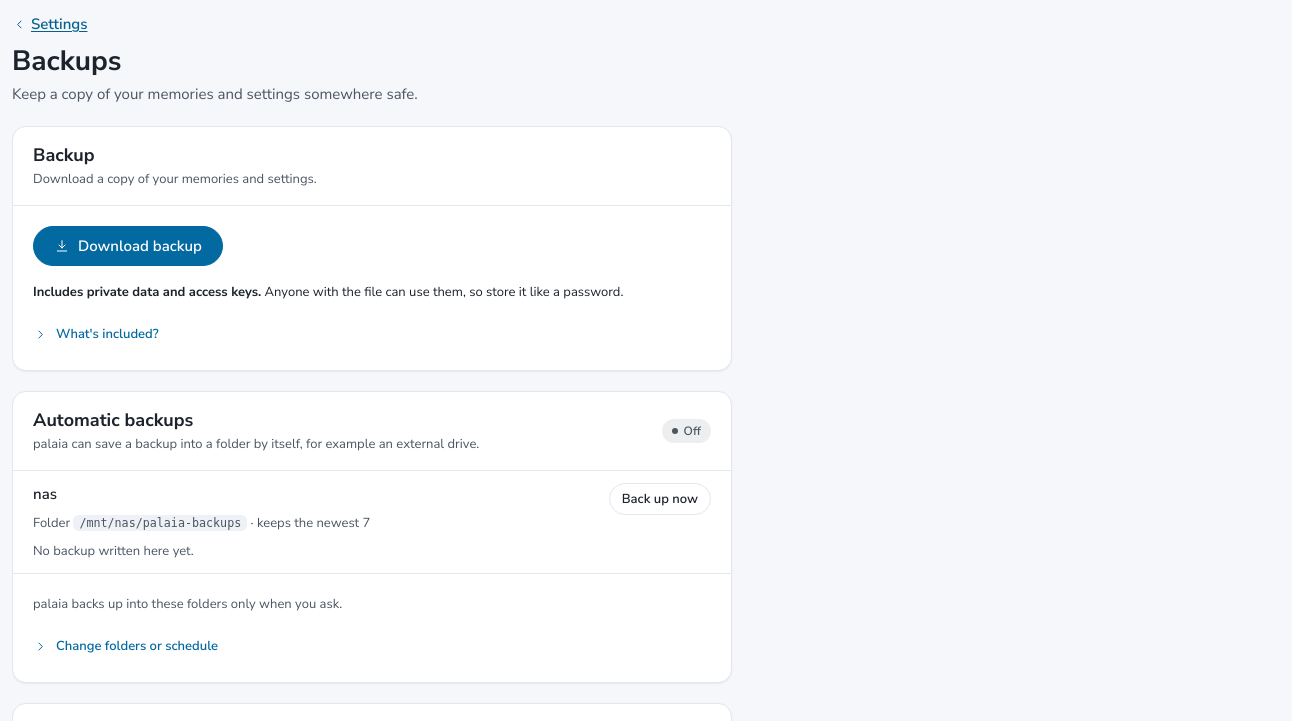
Backups (issue 438) › runs one folder now, says so, and shows the fresh outcome
The image size is (1292, 721).
Expected: the list item with test id "backup-target-nas" shows "no backup written here yet", [33,542,194,560]
Click the button with aria-label "back up now into nas" at point(660, 499), box [609,483,711,515]
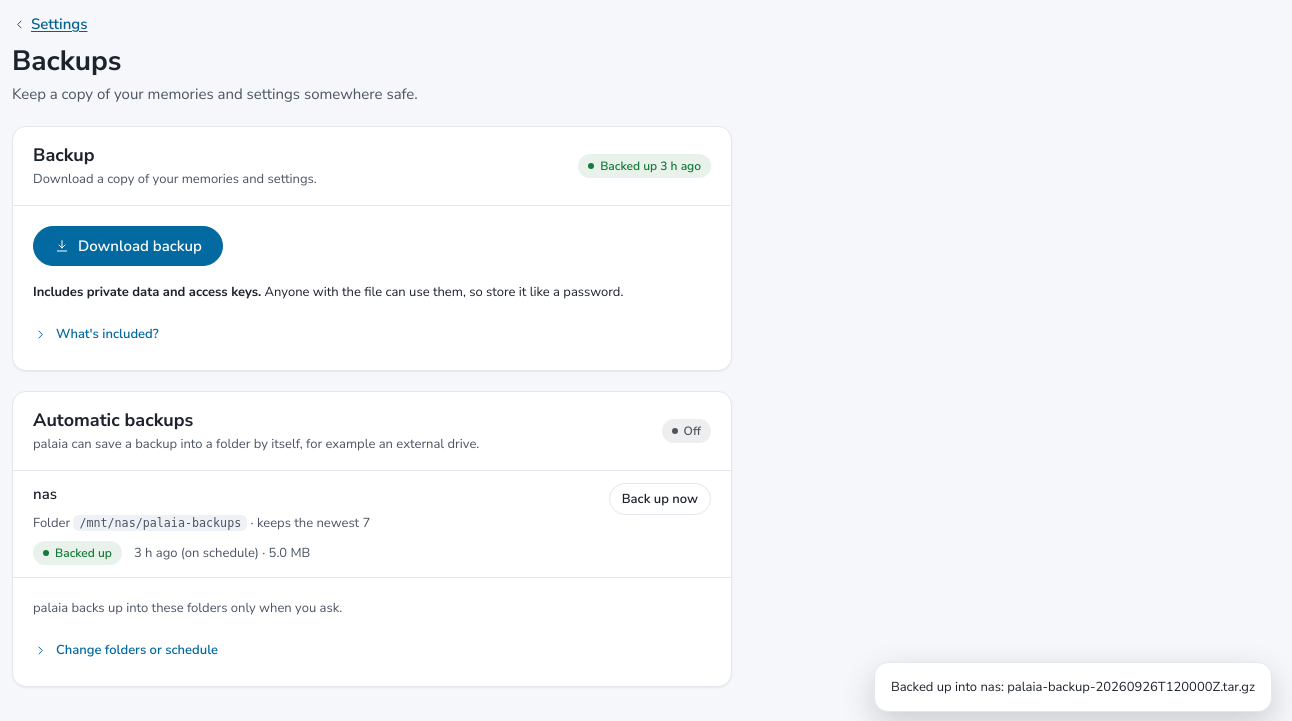
Expected: the text "Backed up into nas: palaia-backup-20260926T120000Z.tar.gz" is shown, [891,675,1255,699]
Expected: the list item with test id "backup-target-nas" shows "on schedule", [185,544,255,562]
